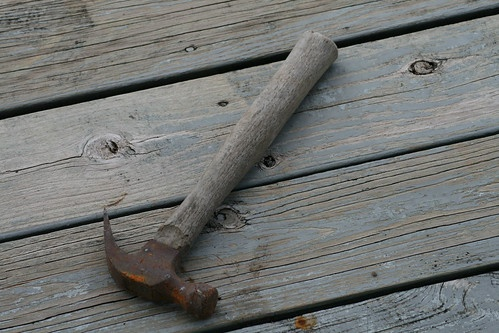hammer: (101, 30, 337, 319)
